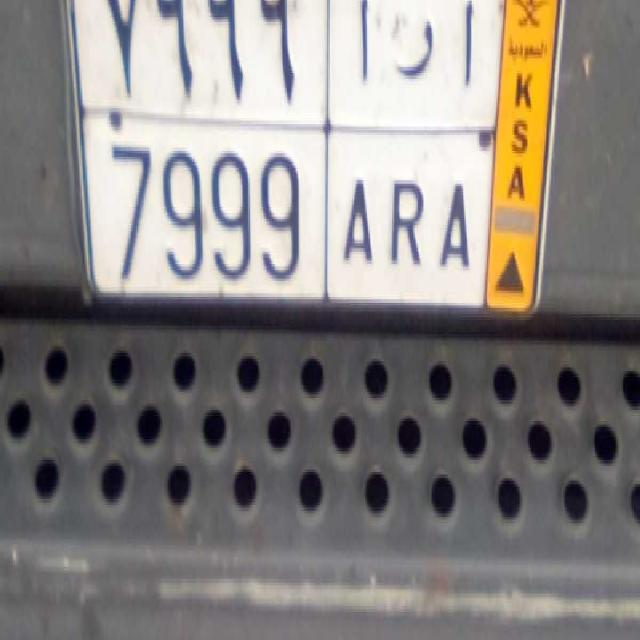license_plate: (78, 108, 492, 312)
